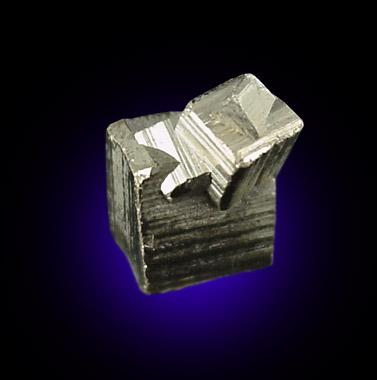pyrite: (105, 73, 305, 295)
